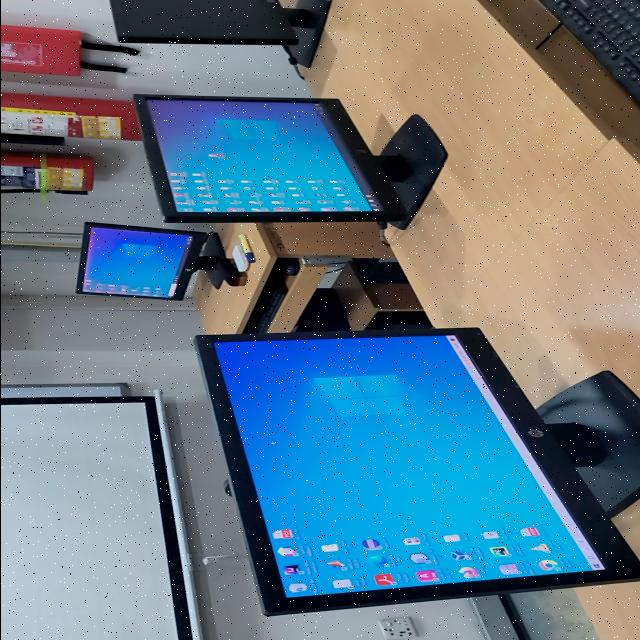Fire Extinguisher: (0, 93, 140, 141), (0, 154, 92, 194)
Keyboard: (539, 0, 640, 107)
Monitor: (194, 328, 640, 616), (133, 95, 445, 230), (109, 0, 329, 68), (75, 222, 225, 301)
Mouse: (283, 259, 298, 276)
